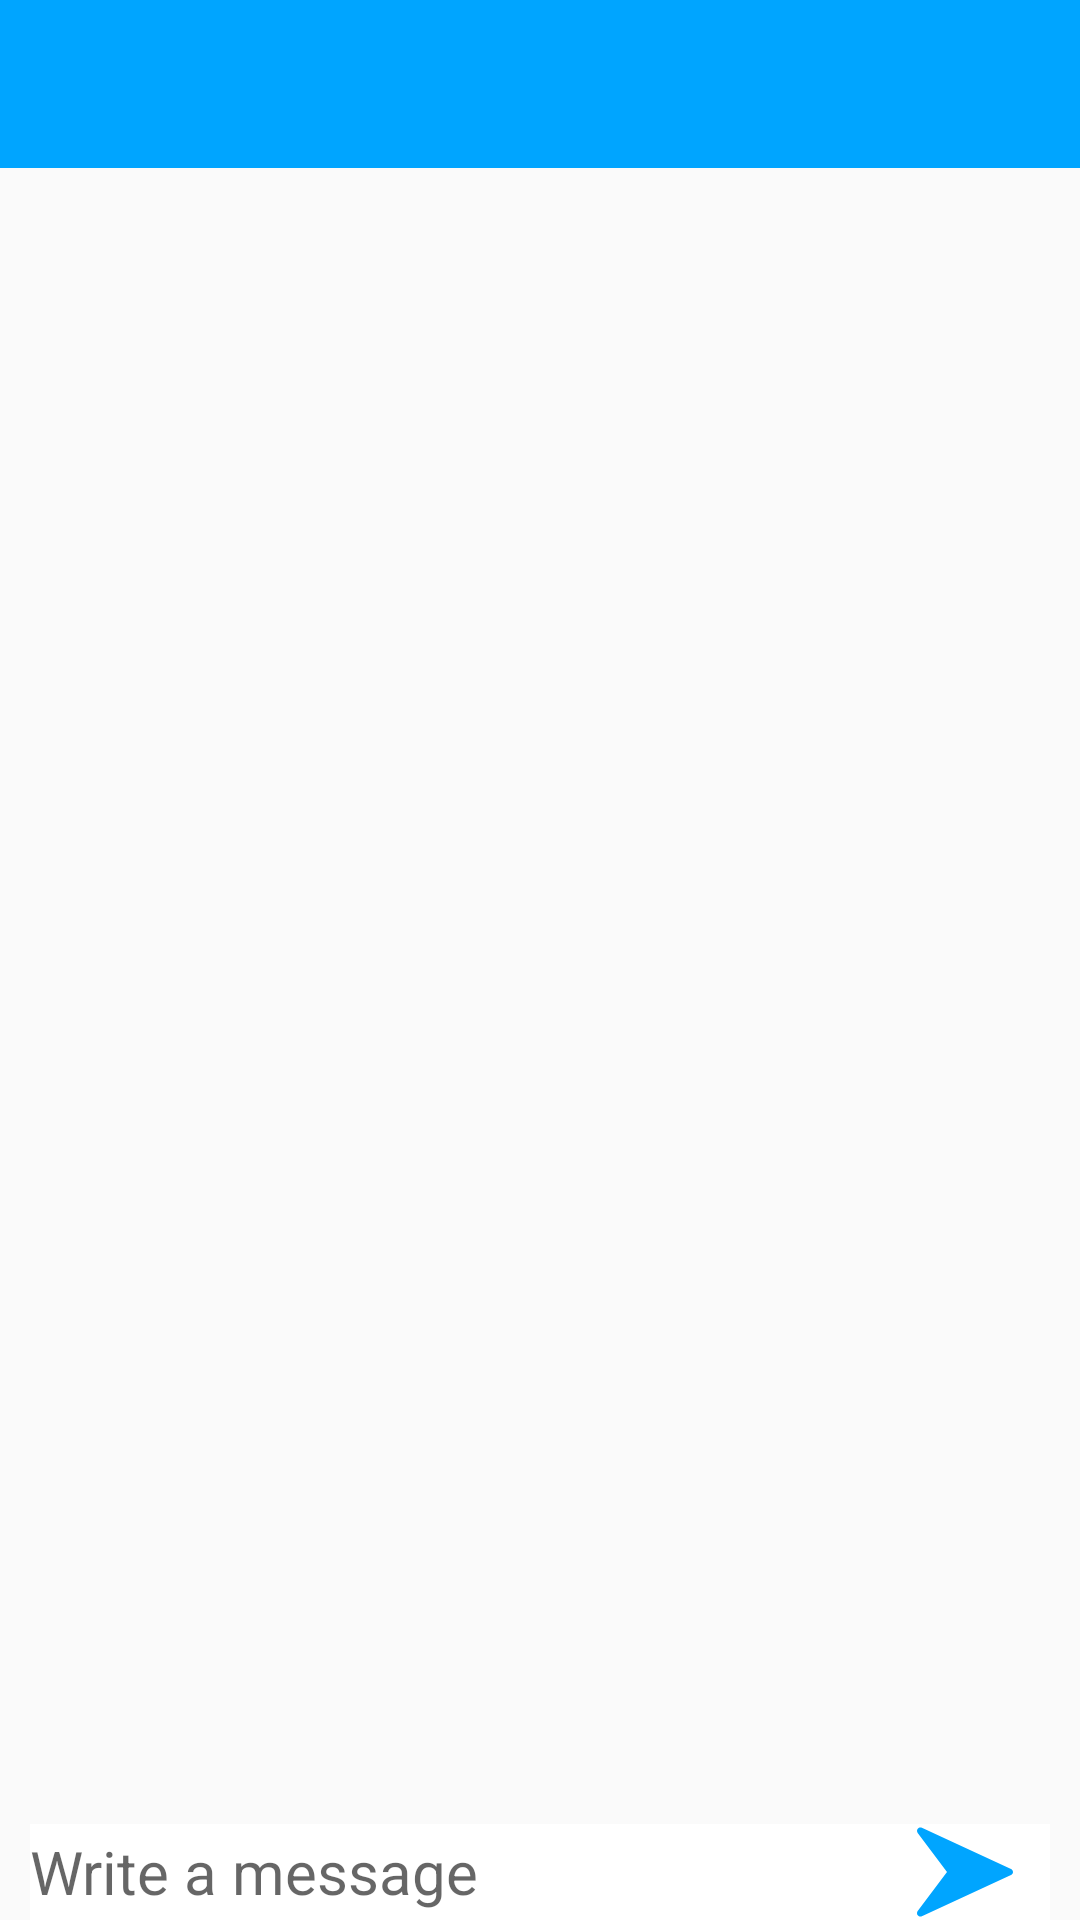

Point at icon controls on the screen. Image size 1080x1920, points as point (x, y).
send arrow: point (965, 1872)
